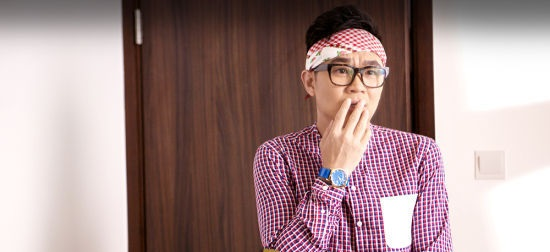face: (317, 46, 384, 127)
